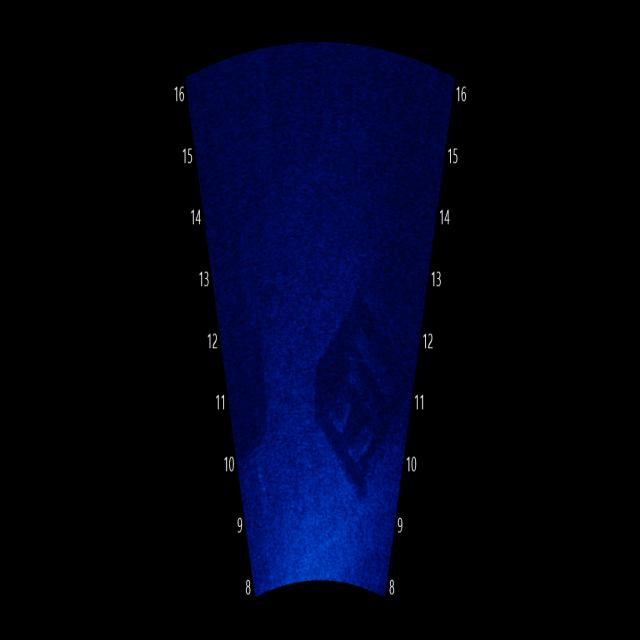square: (314, 285, 411, 499)
